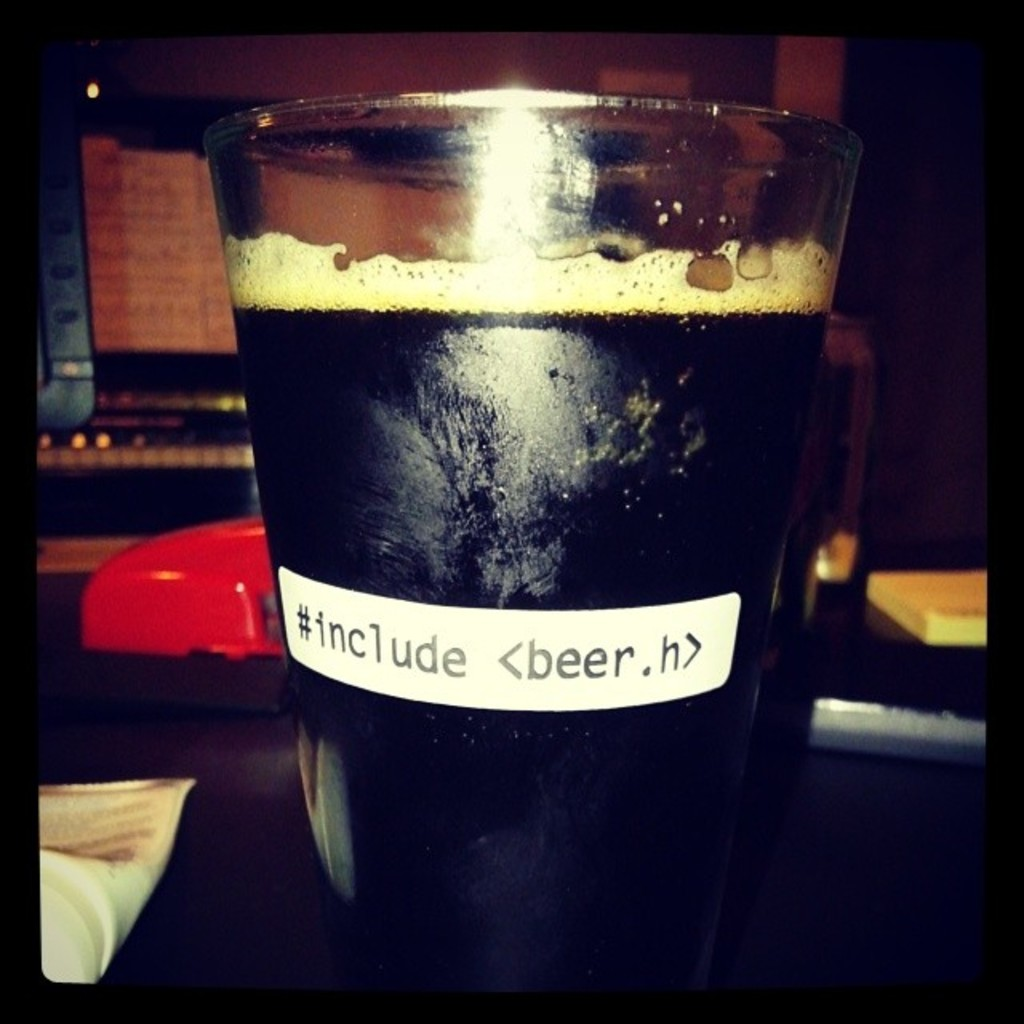Beer: (177, 56, 838, 1008)
